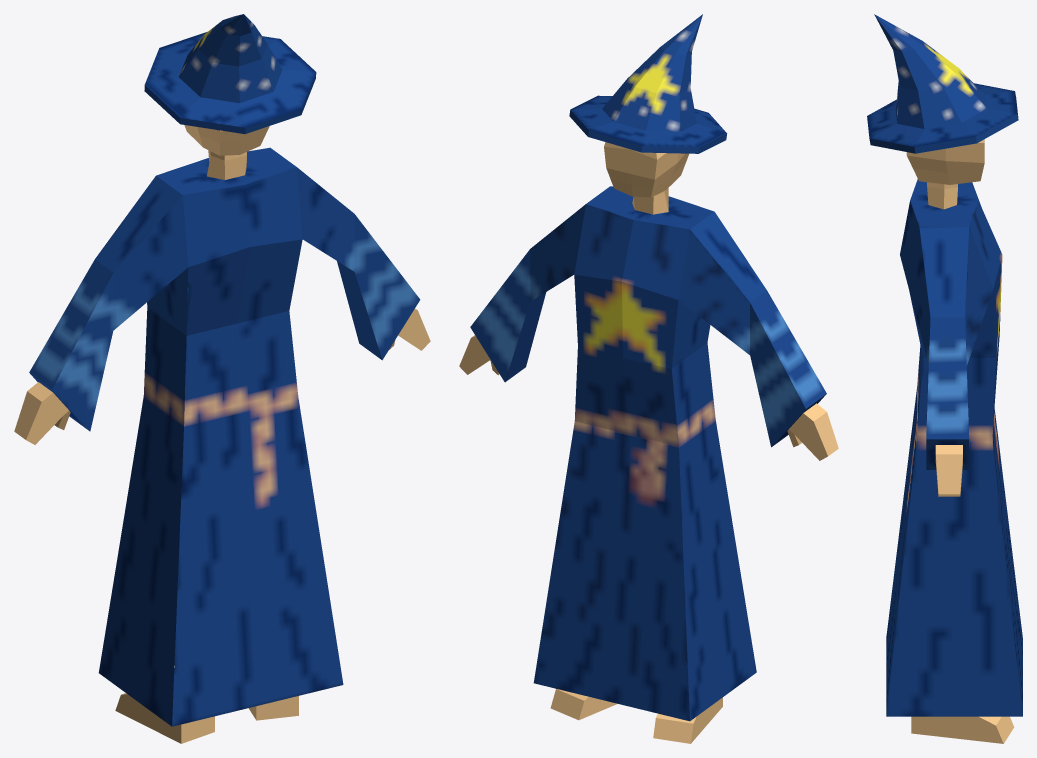
Rendered from wizard.fbx.
The picture shows the model from 3 angles, left to right: view 1: azimuth 30°, elevation 25°; view 2: azimuth 150°, elevation 25°; view 3: azimuth 270°, elevation 25°; orthographic projection. The views are drawn at different scales.
Visible parts, largest first — view 1: Cube.004; view 2: Cube.004; view 3: Cube.004.
Boxes of the visible parts, <box> form: Cube.004: <box>14,14,430,743</box>; Cube.004: <box>459,14,838,743</box>; Cube.004: <box>867,14,1022,743</box>.
Size of the model in its own units: 204 by 354 by 72.97.
